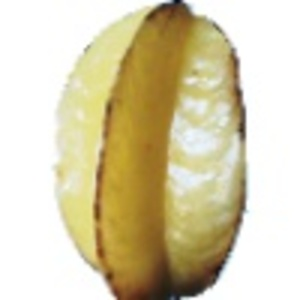carambola: (53, 1, 251, 300)
